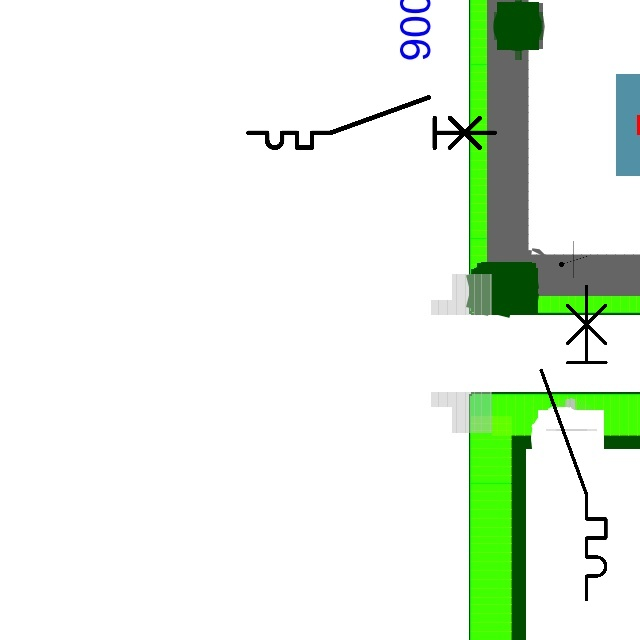interruptor_termomagnetico: (533, 278, 614, 608), (242, 91, 500, 154)
